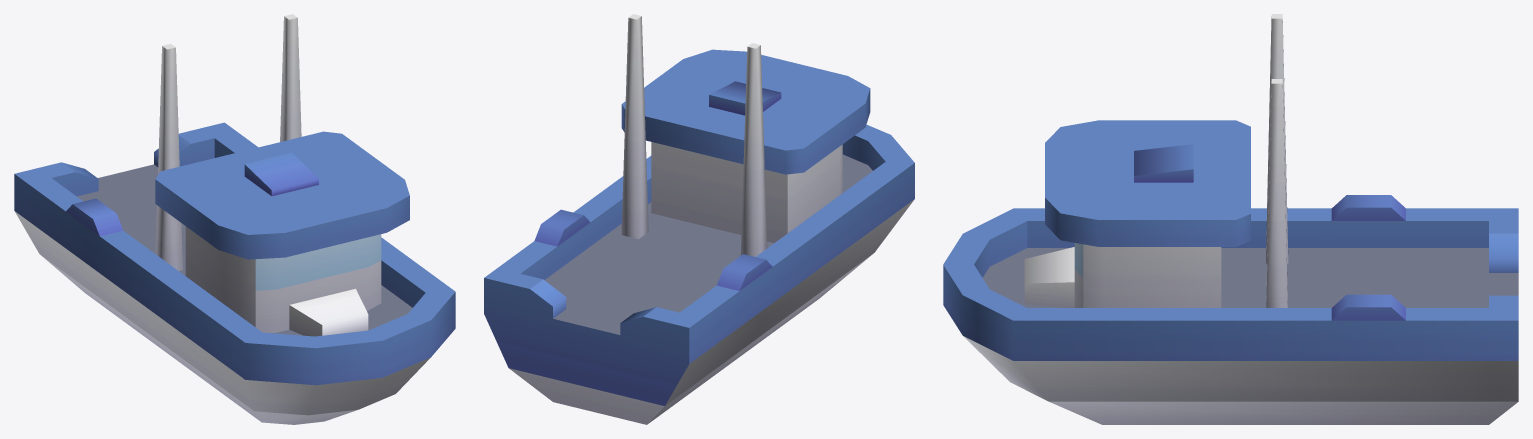
File: k.boat_fishing_small.glb
3 renders of one model, left to right at view 1: azimuth 30°, elevation 25°; view 2: azimuth 150°, elevation 25°; view 3: azimuth 270°, elevation 25°, orthographic. The views are drawn at different scales.
Visible parts, largest first — view 1: boat-fishing-small; view 2: boat-fishing-small; view 3: boat-fishing-small.
Boxes of the visible parts, bbox=[...] form: boat-fishing-small: bbox=[14, 14, 455, 424]; boat-fishing-small: bbox=[484, 14, 914, 424]; boat-fishing-small: bbox=[943, 14, 1518, 424].
Size of the model in its own units: 2.27 by 3.31 by 4.93.
1 material, 1 textured.
